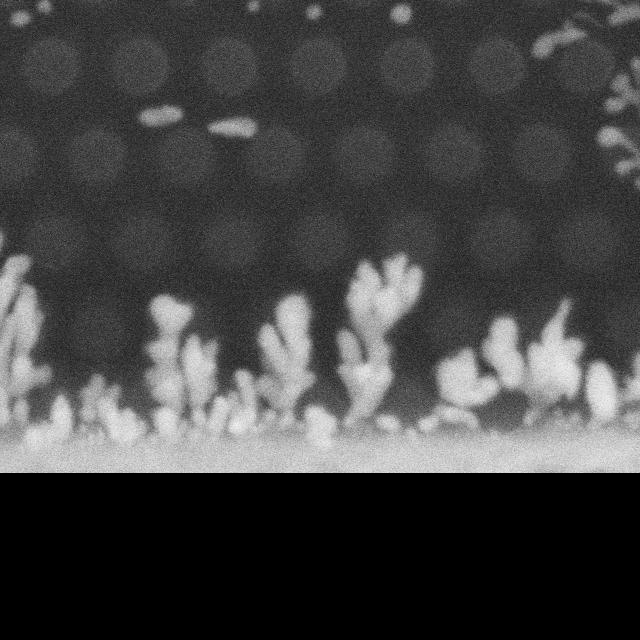Dendrite: (337, 253, 423, 439), (481, 298, 583, 425), (24, 374, 149, 447), (0, 255, 51, 425), (255, 293, 315, 426), (144, 293, 193, 447), (416, 347, 499, 432), (532, 0, 640, 59), (180, 335, 218, 435), (201, 370, 259, 434), (584, 361, 619, 423), (305, 404, 338, 448), (209, 116, 256, 139), (139, 105, 182, 127), (390, 3, 412, 25), (10, 9, 31, 26), (306, 3, 321, 19)
